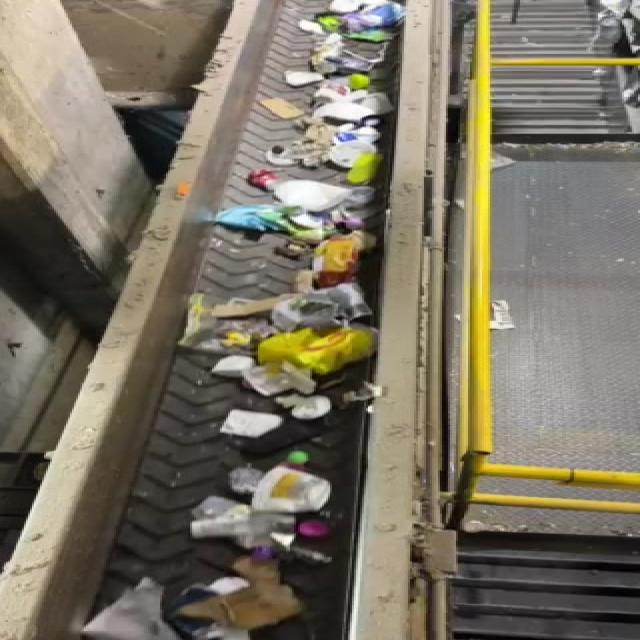paper: (208, 555, 324, 639), (217, 399, 282, 443)
pp: (168, 520, 340, 550), (250, 466, 342, 518), (287, 388, 347, 438)
